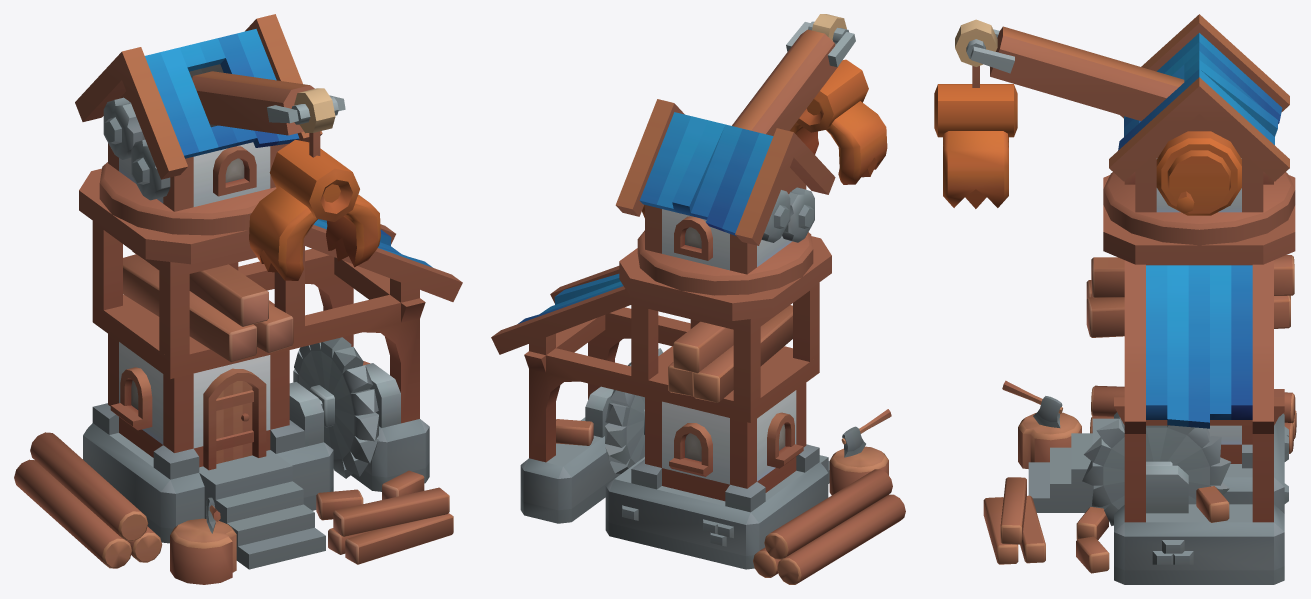
File: lumbermill_blue.glb
3 views of the same model, side by side, from view 1: azimuth 30°, elevation 25°; view 2: azimuth 150°, elevation 25°; view 3: azimuth 270°, elevation 25° (orthographic). The views are drawn at different scales.
Visible parts, largest first — view 1: building_lumbermill_blue, building_lumbermill_top_blue, building_lumbermill_saw_blue; view 2: building_lumbermill_blue, building_lumbermill_top_blue, building_lumbermill_saw_blue; view 3: building_lumbermill_blue, building_lumbermill_top_blue, building_lumbermill_saw_blue.
Part boxes in pixels (x1=…): building_lumbermill_blue: x1=14, y1=168, x2=462, y2=584; building_lumbermill_top_blue: x1=75, y1=14, x2=380, y2=280; building_lumbermill_saw_blue: x1=293, y1=337, x2=378, y2=478; building_lumbermill_blue: x1=491, y1=236, x2=905, y2=584; building_lumbermill_top_blue: x1=615, y1=14, x2=887, y2=295; building_lumbermill_saw_blue: x1=605, y1=348, x2=662, y2=474; building_lumbermill_blue: x1=983, y1=175, x2=1296, y2=584; building_lumbermill_top_blue: x1=934, y1=14, x2=1295, y2=245; building_lumbermill_saw_blue: x1=1082, y1=417, x2=1231, y2=525.
Bounding box in the file's own units: 1.37 × 1.71 × 1.19.
Materials: 1 (1 with a texture image).
